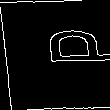P_W: (3, 35, 107, 75)
